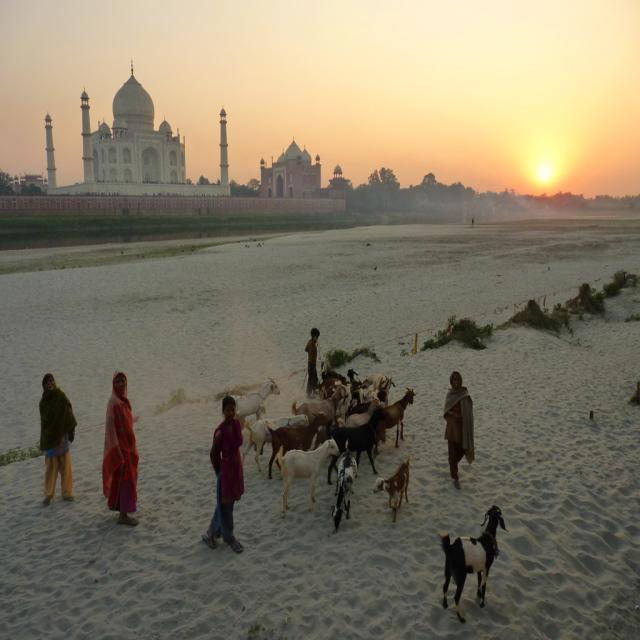Goat: (438, 504, 508, 623), (275, 438, 339, 518), (223, 378, 280, 429), (372, 453, 412, 522), (331, 444, 357, 534)
